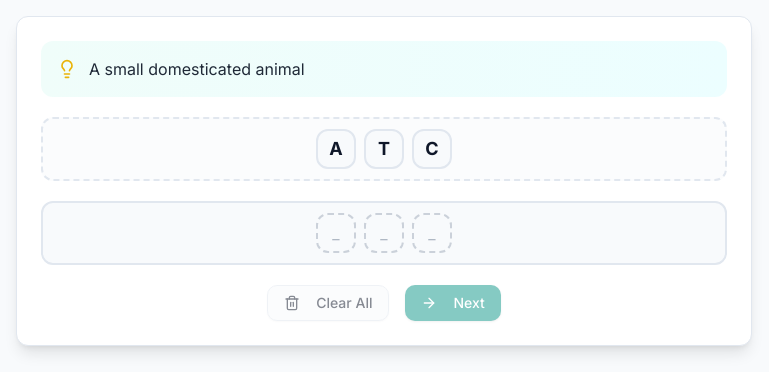
it: WordBuilderPlayer › letter placement (click-to-place) › places letters in first empty position
This screenshot has width=769, height=372.
Note: Place letters in order: t, a, c
Click the button "t" at (384, 149), box [364,129,404,169]
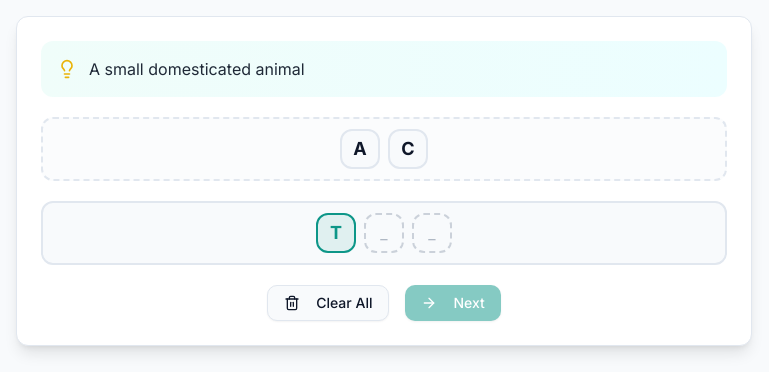
Click the button "a" at (360, 149), box [340,129,380,169]
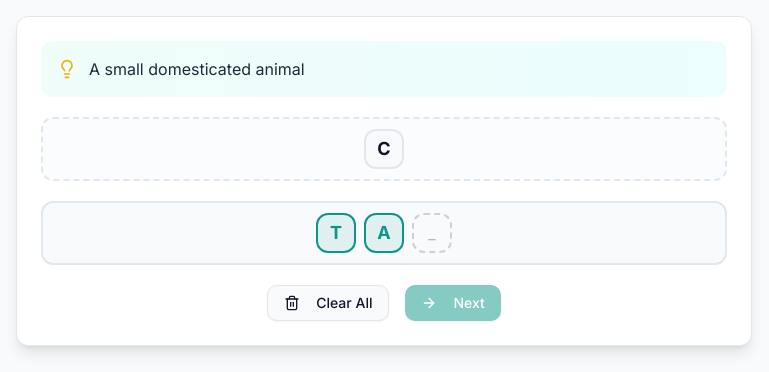
Click the button "c" at (384, 149), box [364,129,404,169]
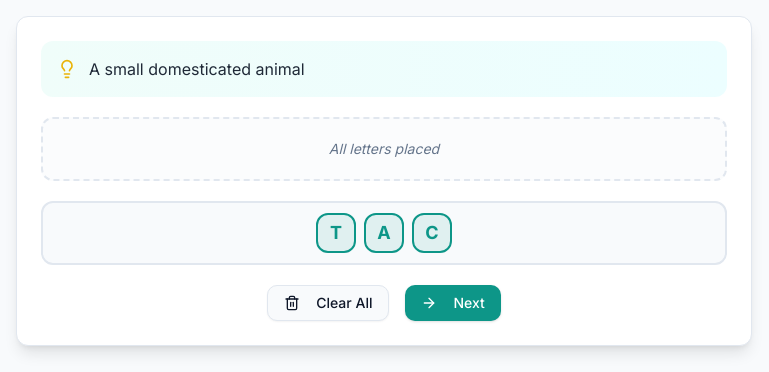
Check: the text "_" is not shown
Check: the text "All letters placed" is shown, box [329,139,439,159]
